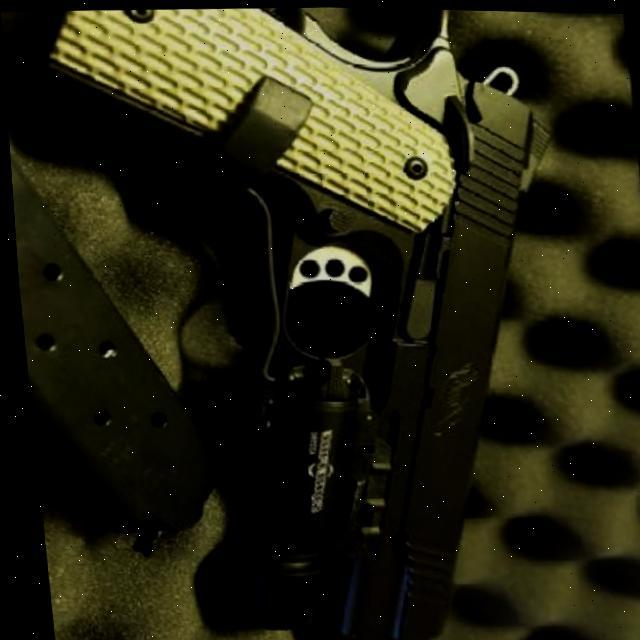gun: (17, 0, 593, 640)
